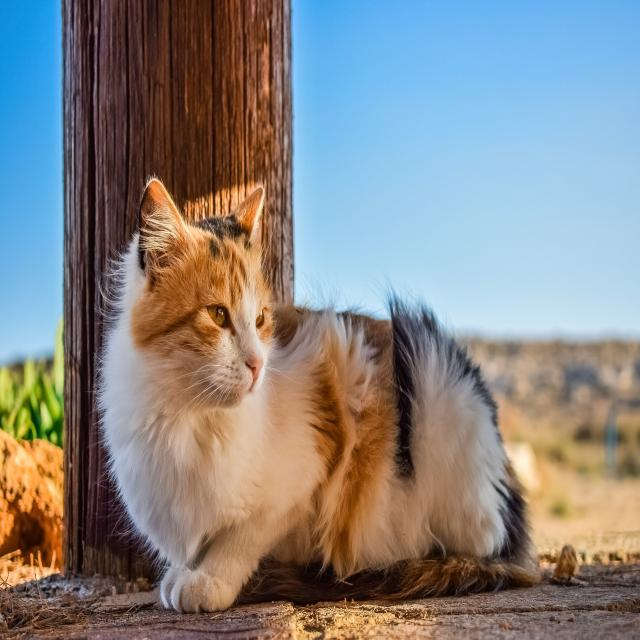cat: (98, 178, 539, 612)
